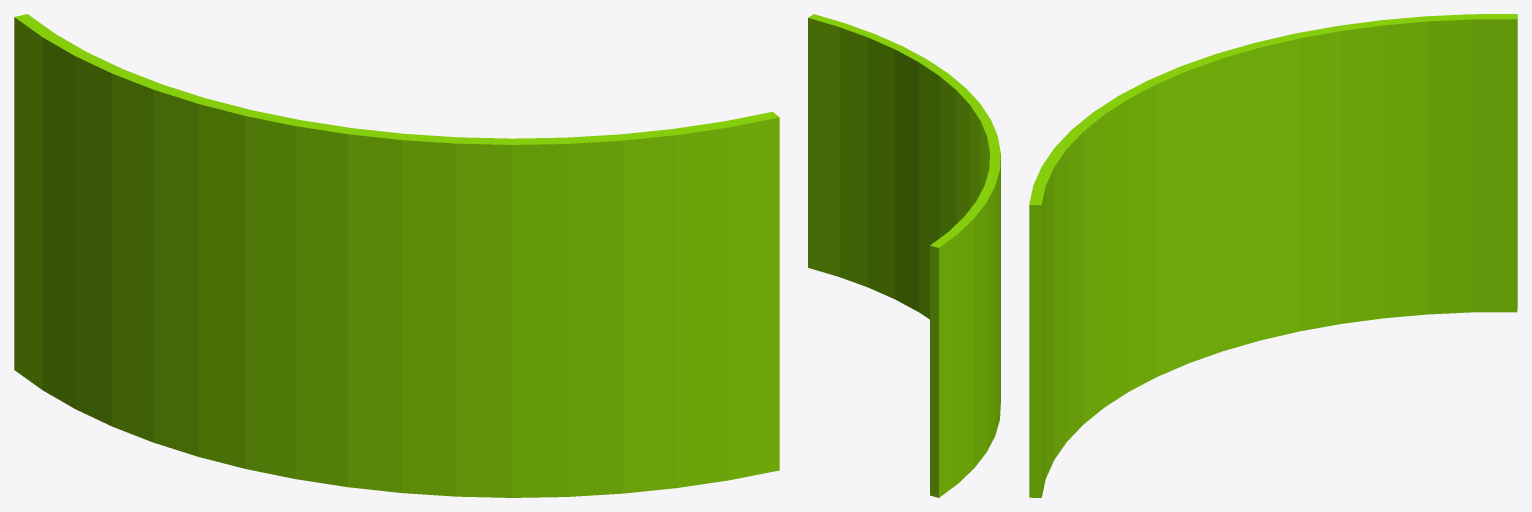
The model's file is Wall_01_Bend_03.fbx.
The picture shows the model from 3 angles, left to right: view 1: azimuth 30°, elevation 25°; view 2: azimuth 150°, elevation 25°; view 3: azimuth 270°, elevation 25°; orthographic projection. The views are drawn at different scales.
Parts seen in each view (by area): view 1: Wall_01_Bend_03; view 2: Wall_01_Bend_03; view 3: Wall_01_Bend_03.
Part boxes in pixels (<box>): Wall_01_Bend_03: <box>14,14,779,497</box>; Wall_01_Bend_03: <box>808,14,1000,497</box>; Wall_01_Bend_03: <box>1029,14,1517,497</box>.
Bounding box in the file's own units: 800 × 572 × 865.
